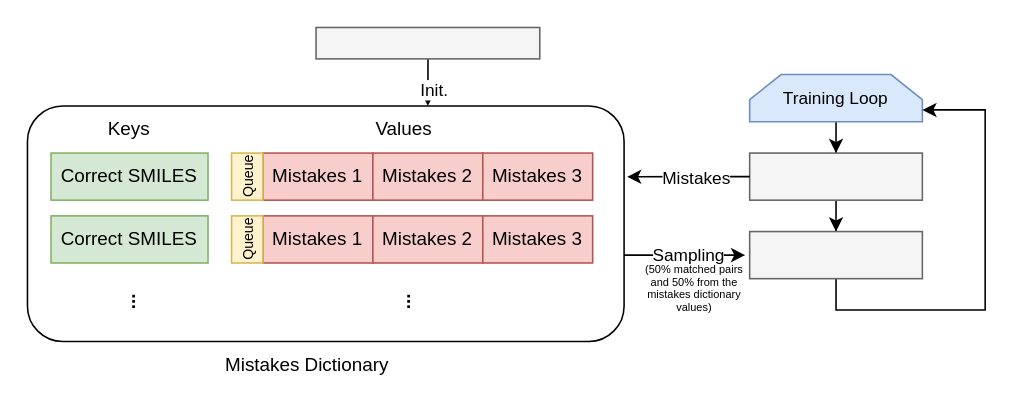
Some shapes in this 1025 by 416 pixel diagram are drawn without their labels. Here are the shapes that lost their labels. From the top down, the centre of each, then its label:
At (x=427, y=42): "Randomly Selected SMILES".
At (x=835, y=176): "Language Modeling".
At (x=835, y=254): "Image-Text Matching".
